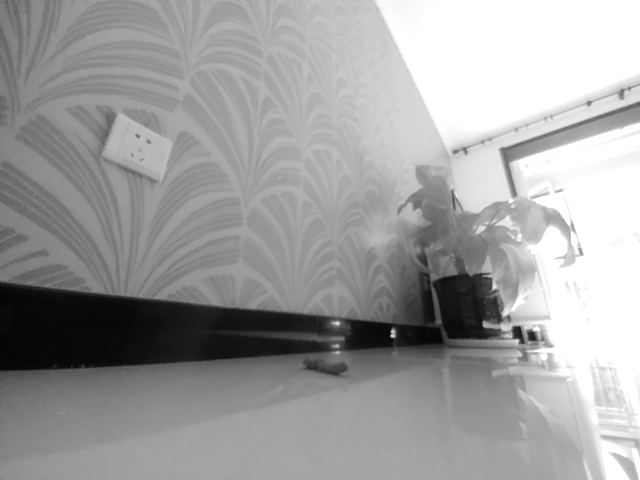pet feces: (301, 357, 350, 377)
